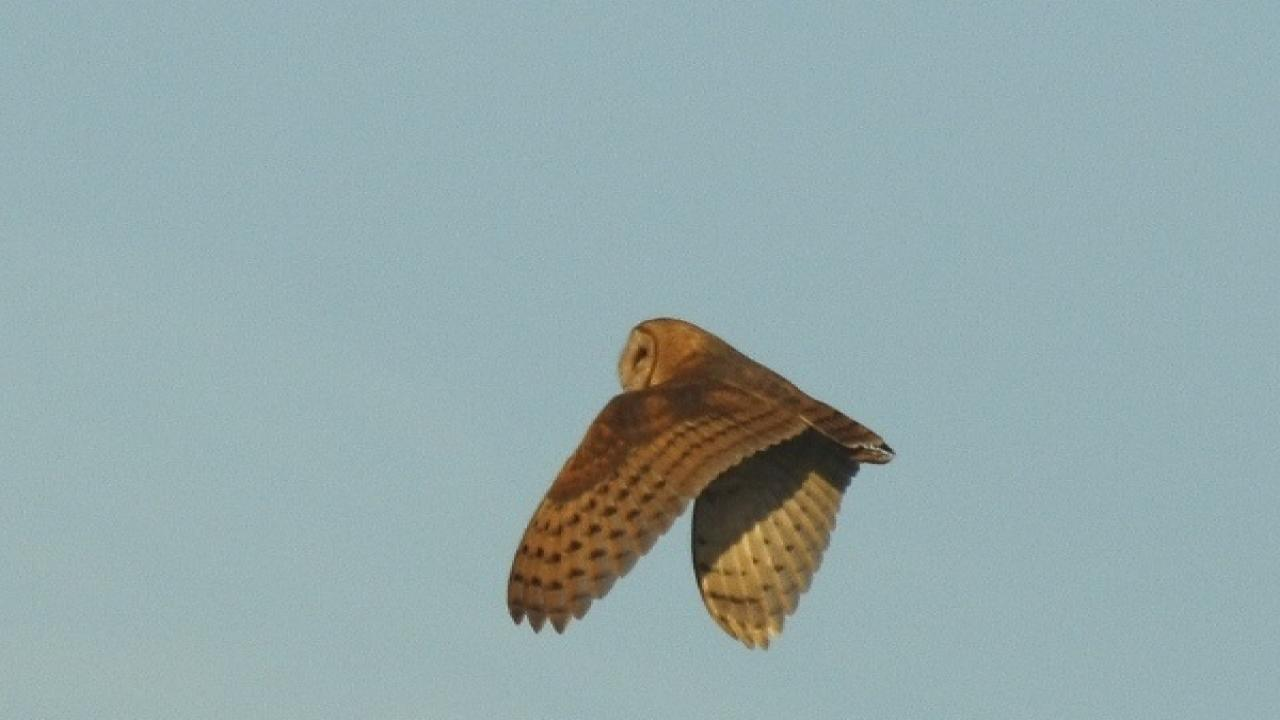Bird: (494, 309, 906, 659)
